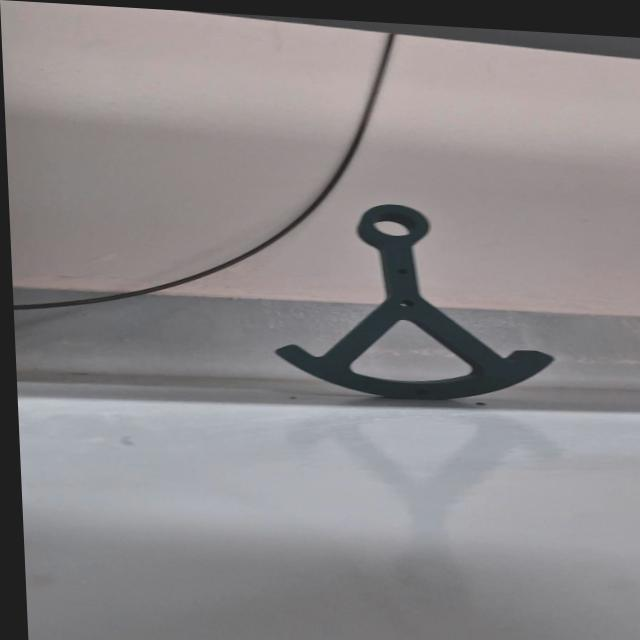haptic: (266, 195, 558, 409)
